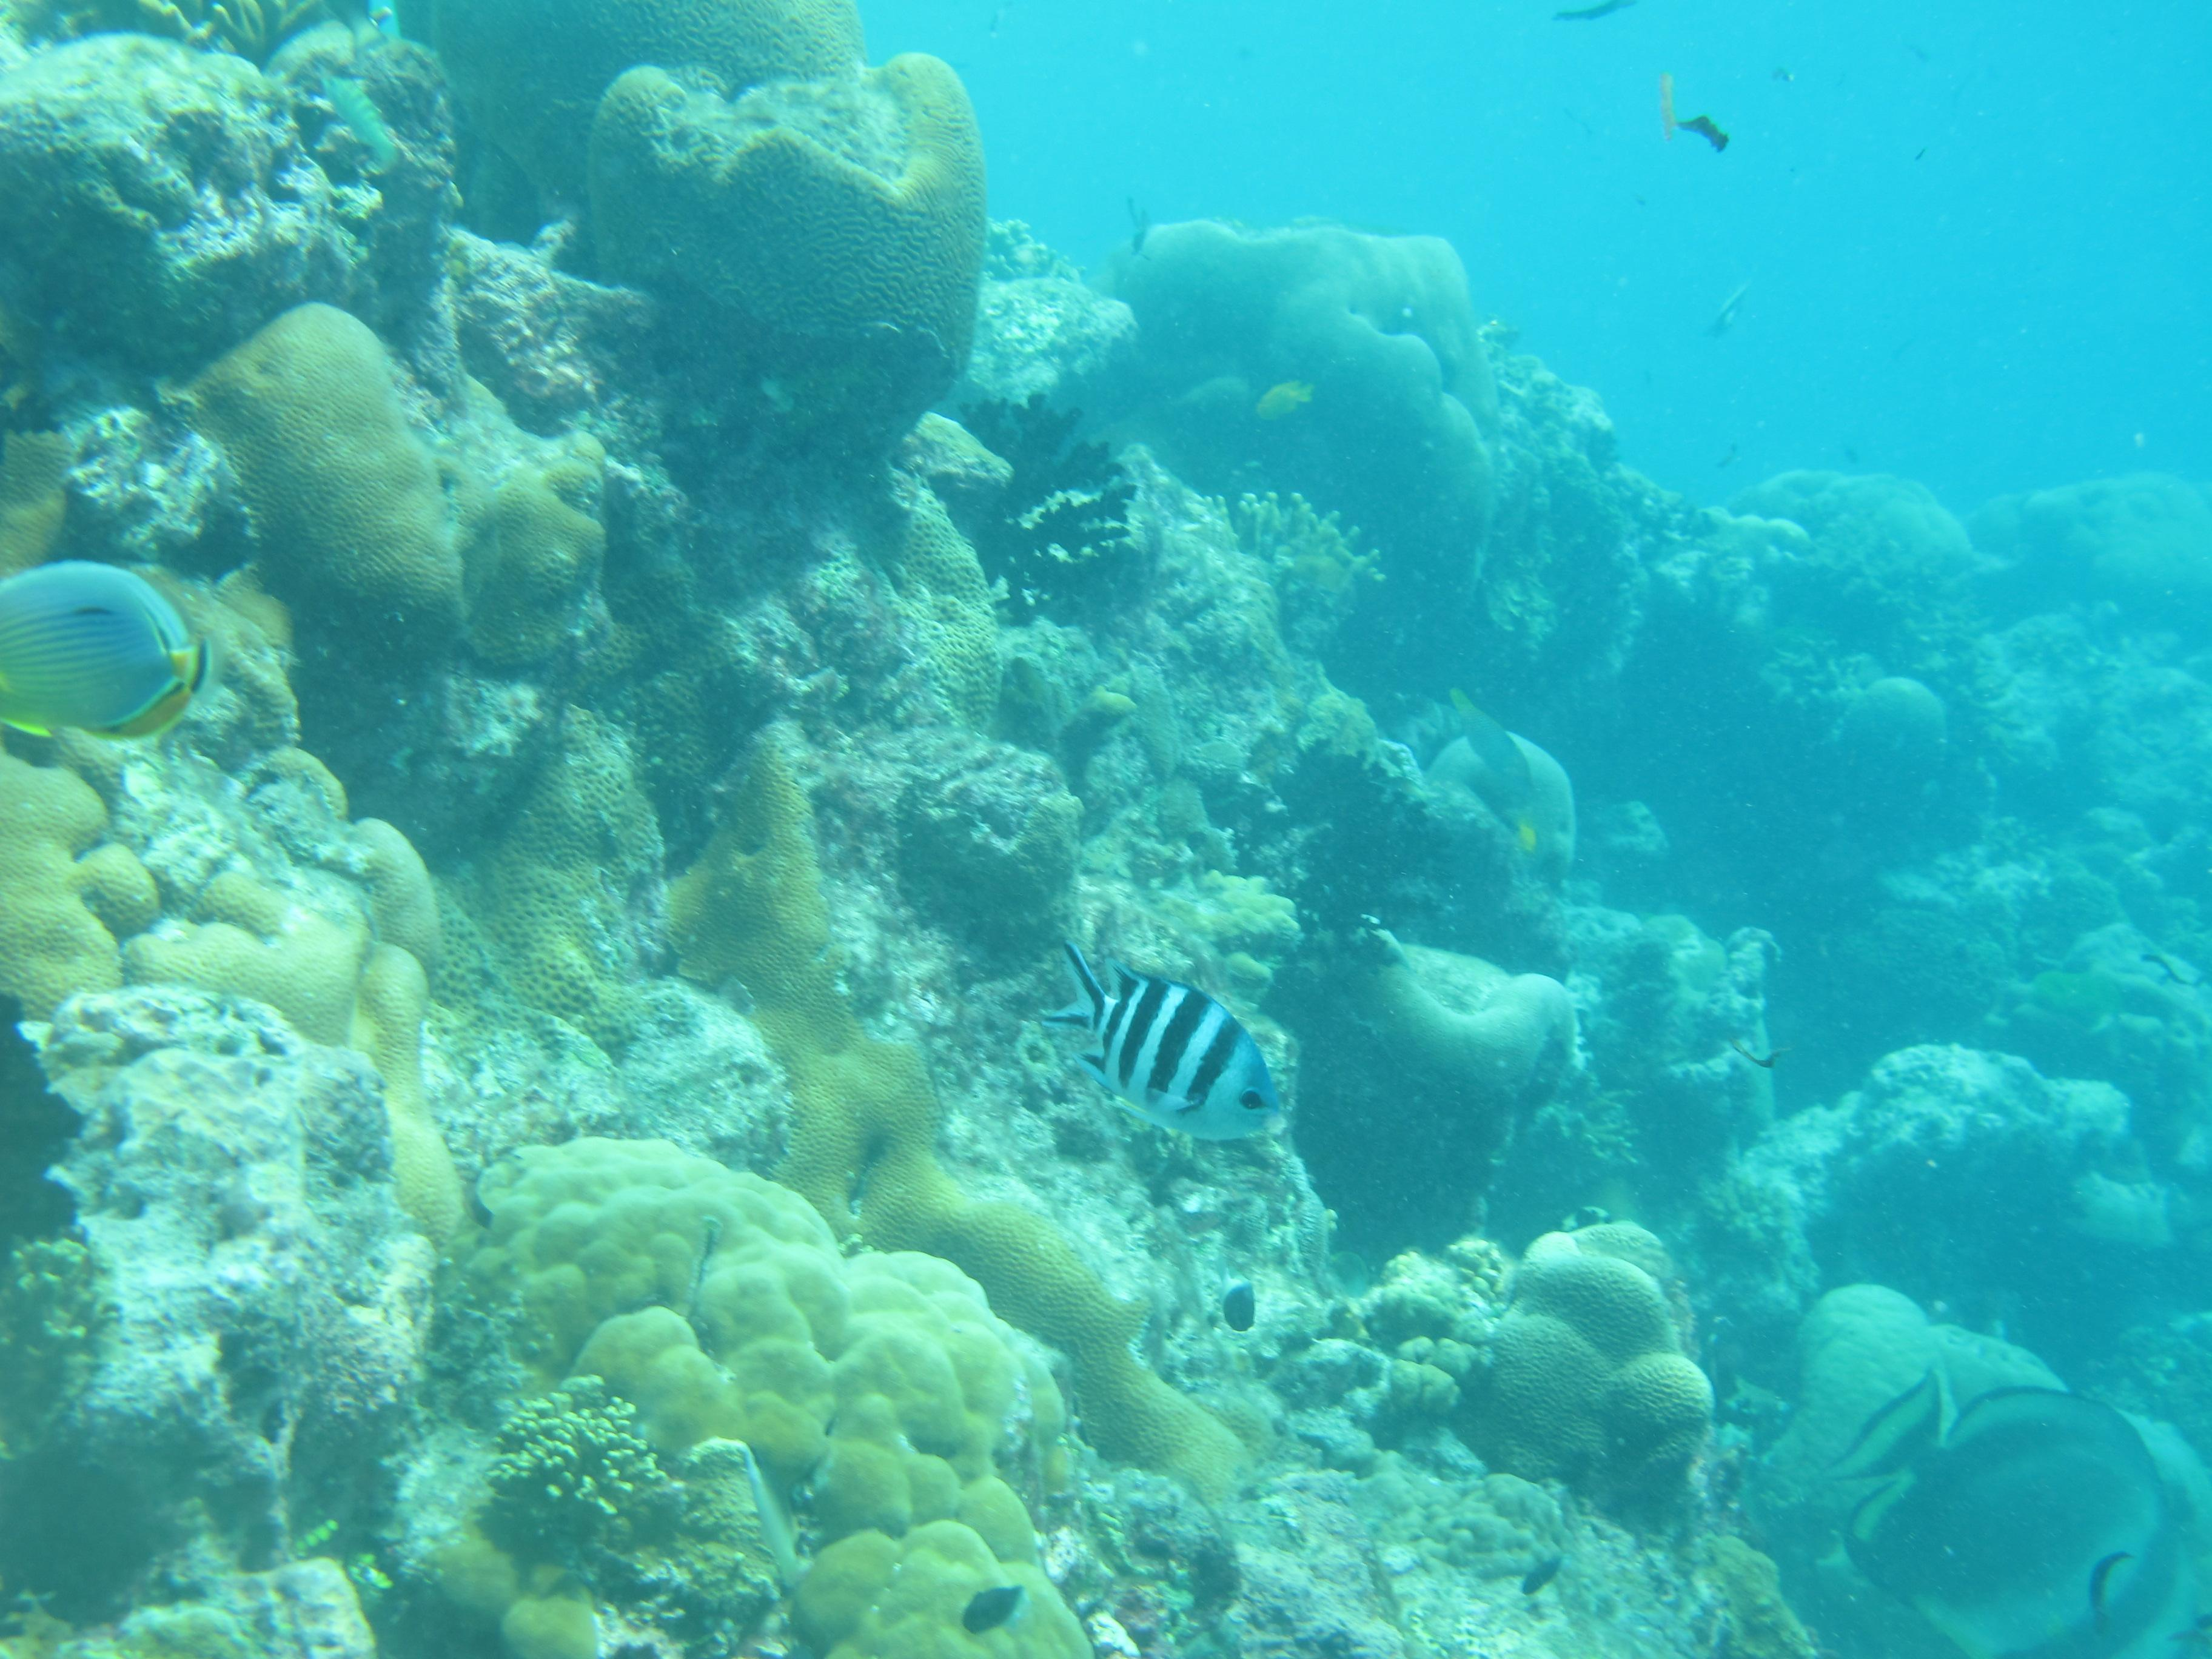Fish: (1010, 904, 1357, 1229)
